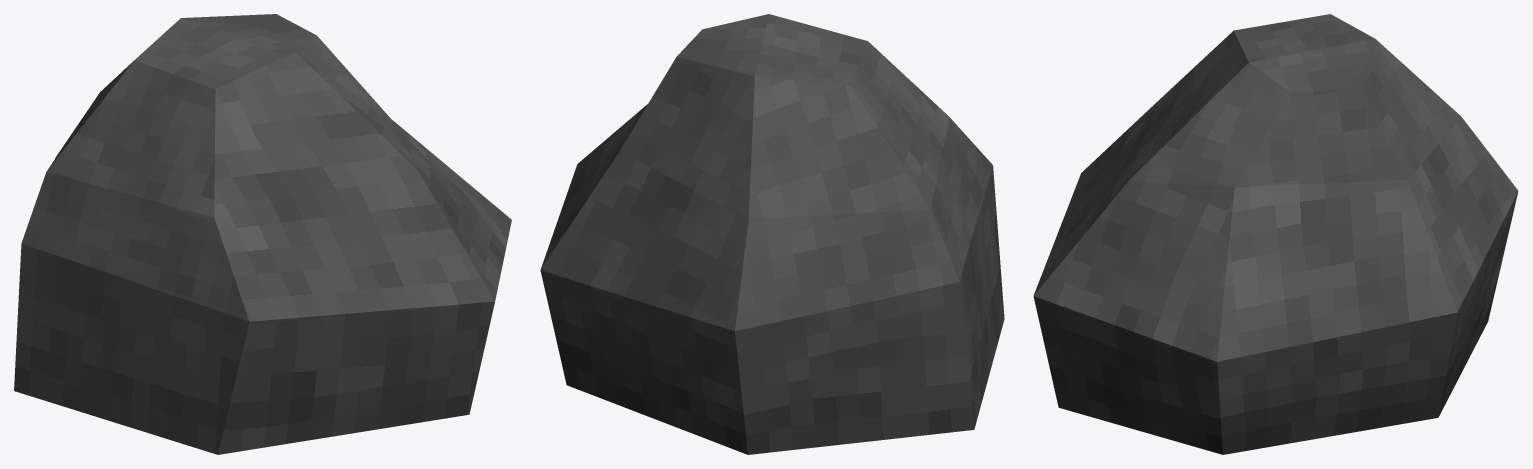
Rendered from Rock_Medium.fbx.
The picture shows the model from 3 angles, left to right: view 1: azimuth 30°, elevation 25°; view 2: azimuth 150°, elevation 25°; view 3: azimuth 270°, elevation 25°; orthographic projection. The views are drawn at different scales.
Parts seen in each view (by area): view 1: pCylinder5; view 2: pCylinder5; view 3: pCylinder5.
Boxes of the visible parts, bbox=[...] form: pCylinder5: bbox=[14, 14, 511, 454]; pCylinder5: bbox=[540, 14, 1004, 454]; pCylinder5: bbox=[1033, 14, 1518, 454].
Size of the model in its own units: 64.89 by 43.86 by 62.67.
